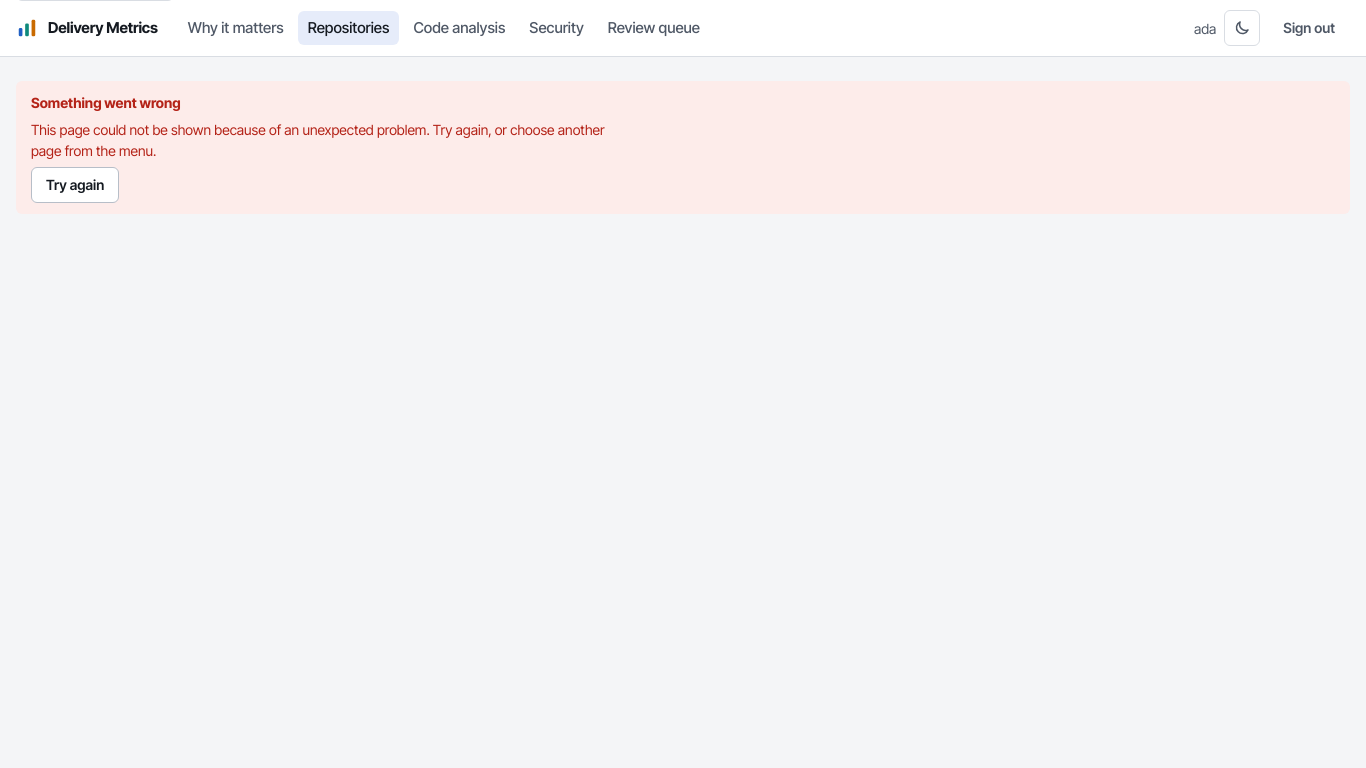
Test case: App page failures › keeps the header usable when a page fails and shows the next page once the route changes
expect the text "This page could not be shown because of an unexpected problem. Try again, or choose another page from the menu." is shown: met, box [31,121,605,159]
The failure belongs to the page that failed, so going elsewhere must not leave its message standing.
What coordinates should you click on to do the following:
click the link "Why it matters"
I would click on:
 (236, 27)
Its box is [188,18,284,37].
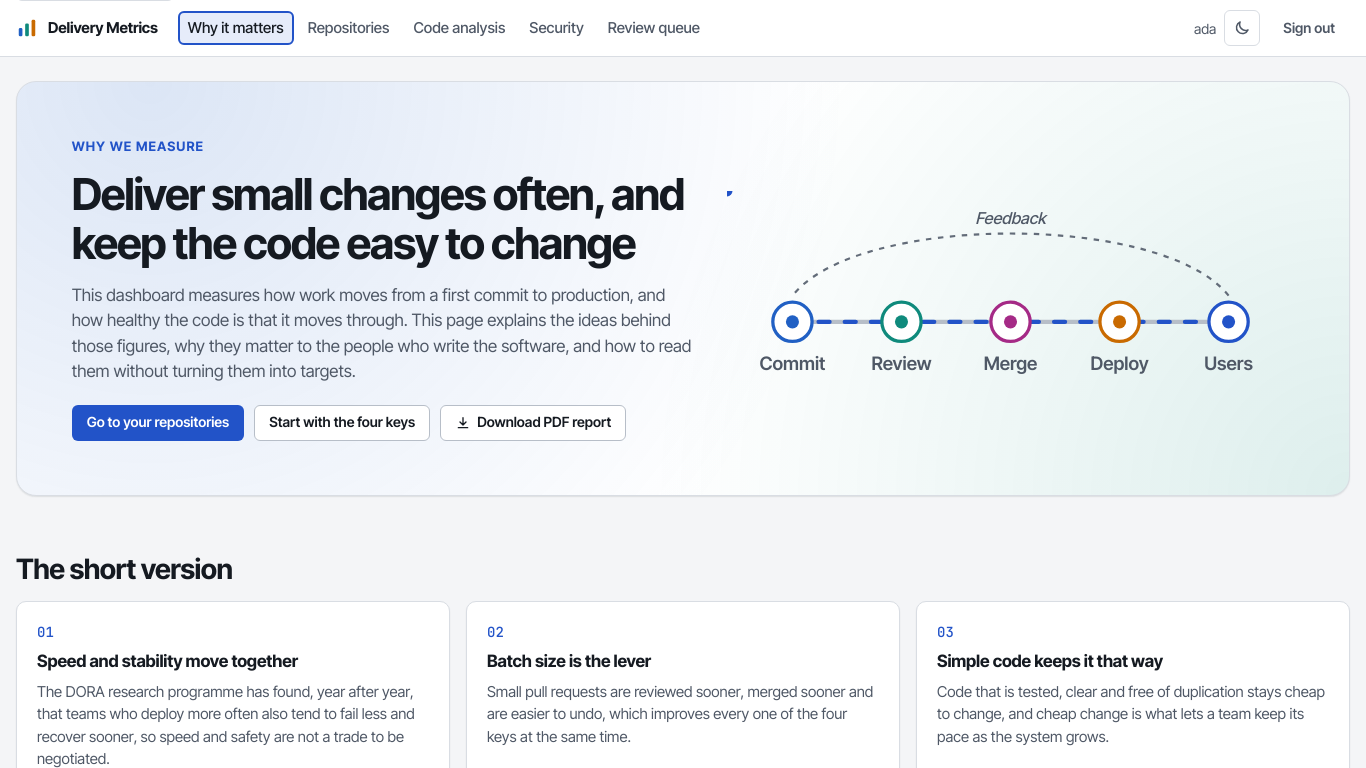
expect the heading "Deliver small changes often, and keep the code easy to change" is shown: met, box [72,170,695,269]
expect the text "This page could not be shown because of an unexpected problem. Try again, or choose another page from the menu." is gone: met
